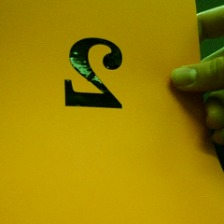orange2: (53, 32, 130, 114)
